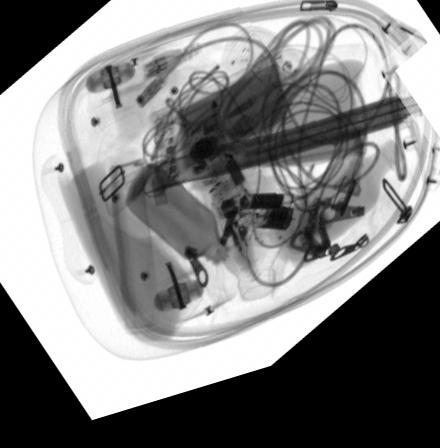Powerbank: (152, 69, 295, 195)
